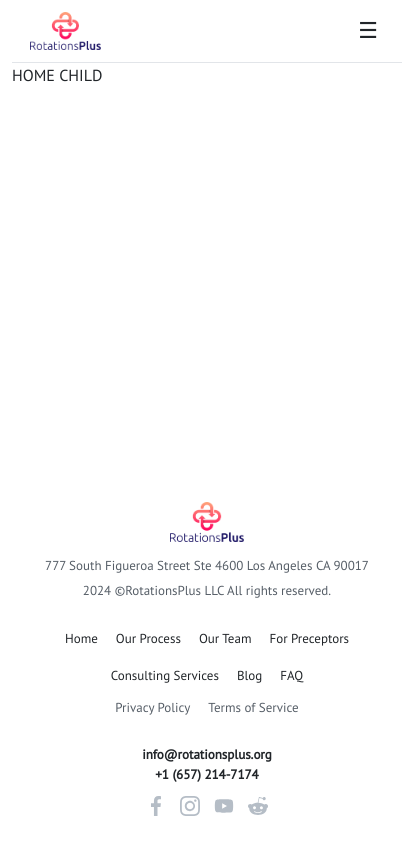
Test: PublicLayout › toggles the mobile menu
Click the button named "toggle menu" at x=368, y=31, box [352,17,384,45]
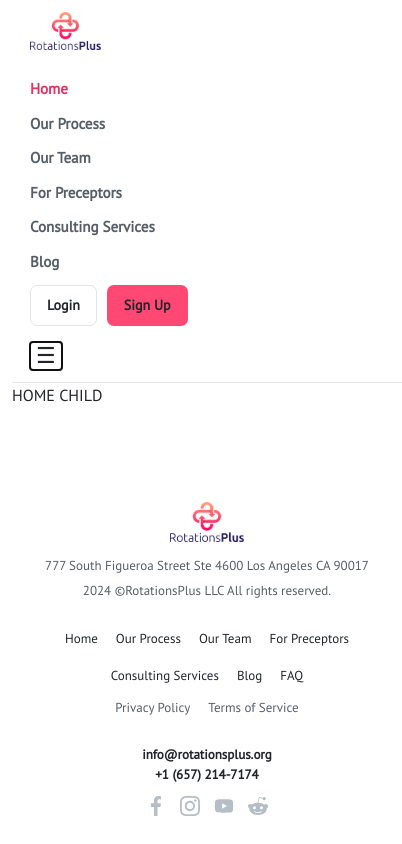
Check: the button named "toggle menu" is expanded
Click the button named "toggle menu" at x=46, y=356, box [30,342,62,370]
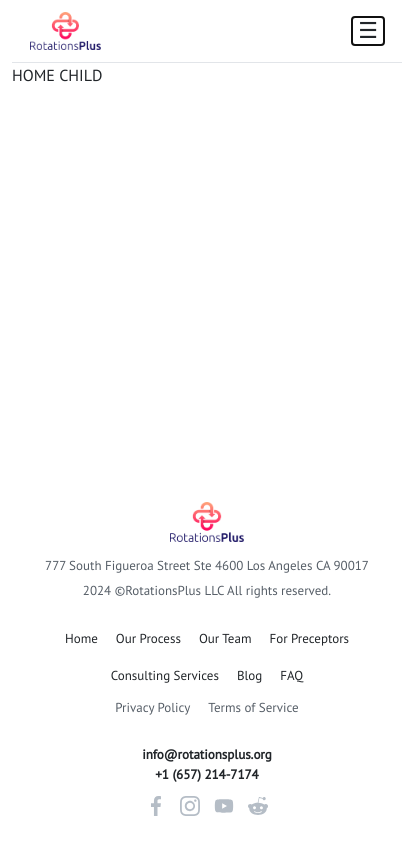
Check: the button named "toggle menu" is collapsed, box [352,17,384,45]
